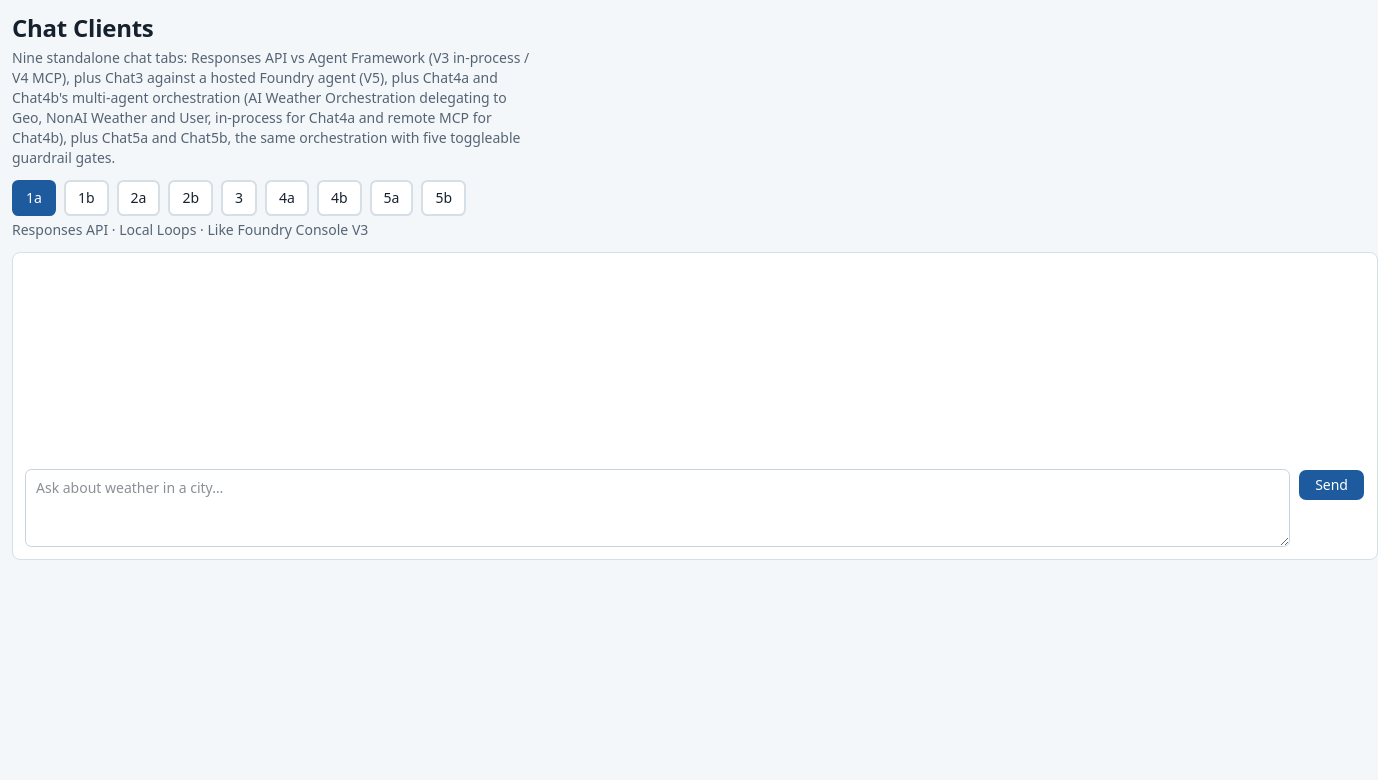
Test: assistant replies grow with their text instead of shrinking inside the transcript
Type "weather in nashville" into the text box named "message" at (658, 508), box top-left (25, 469), bottom-right (1290, 547)
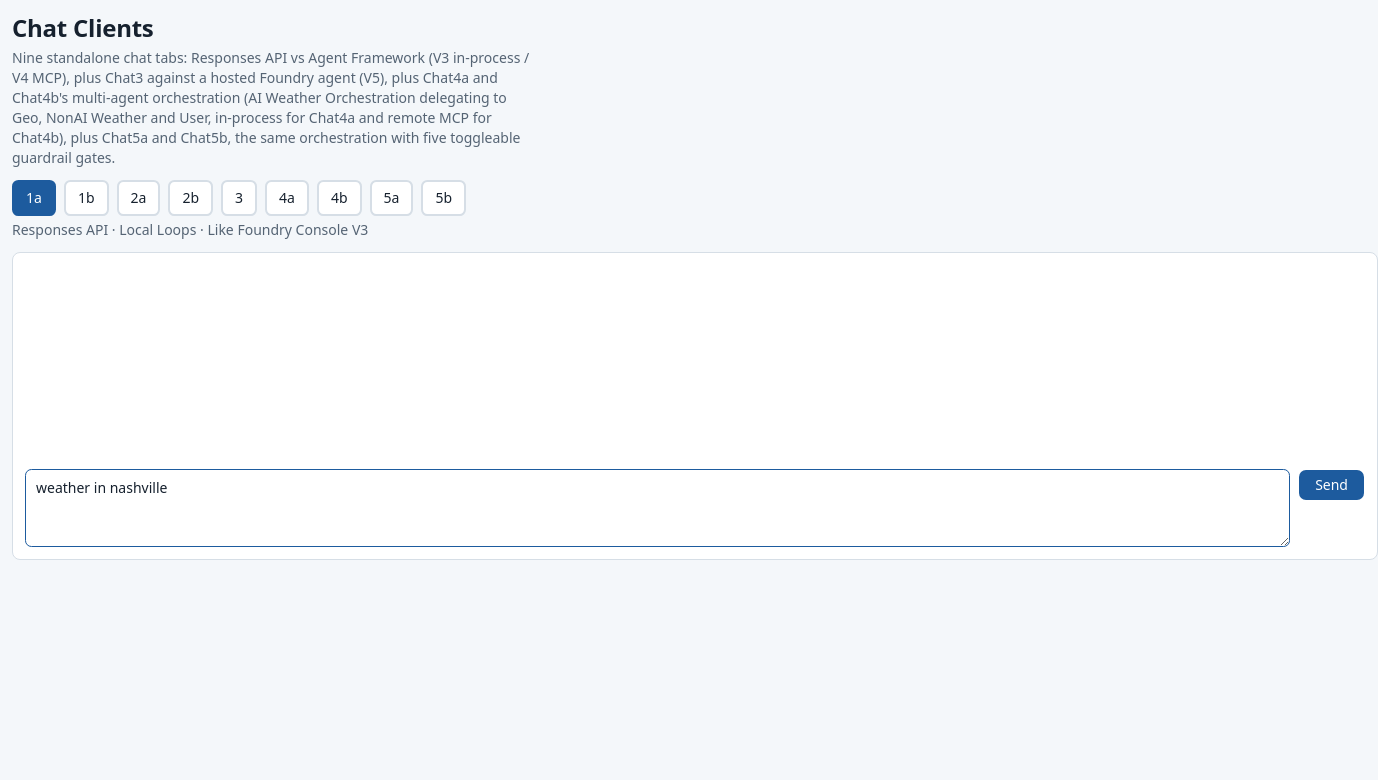
Click the button "Send" at (1332, 485), box top-left (1298, 469), bottom-right (1365, 501)
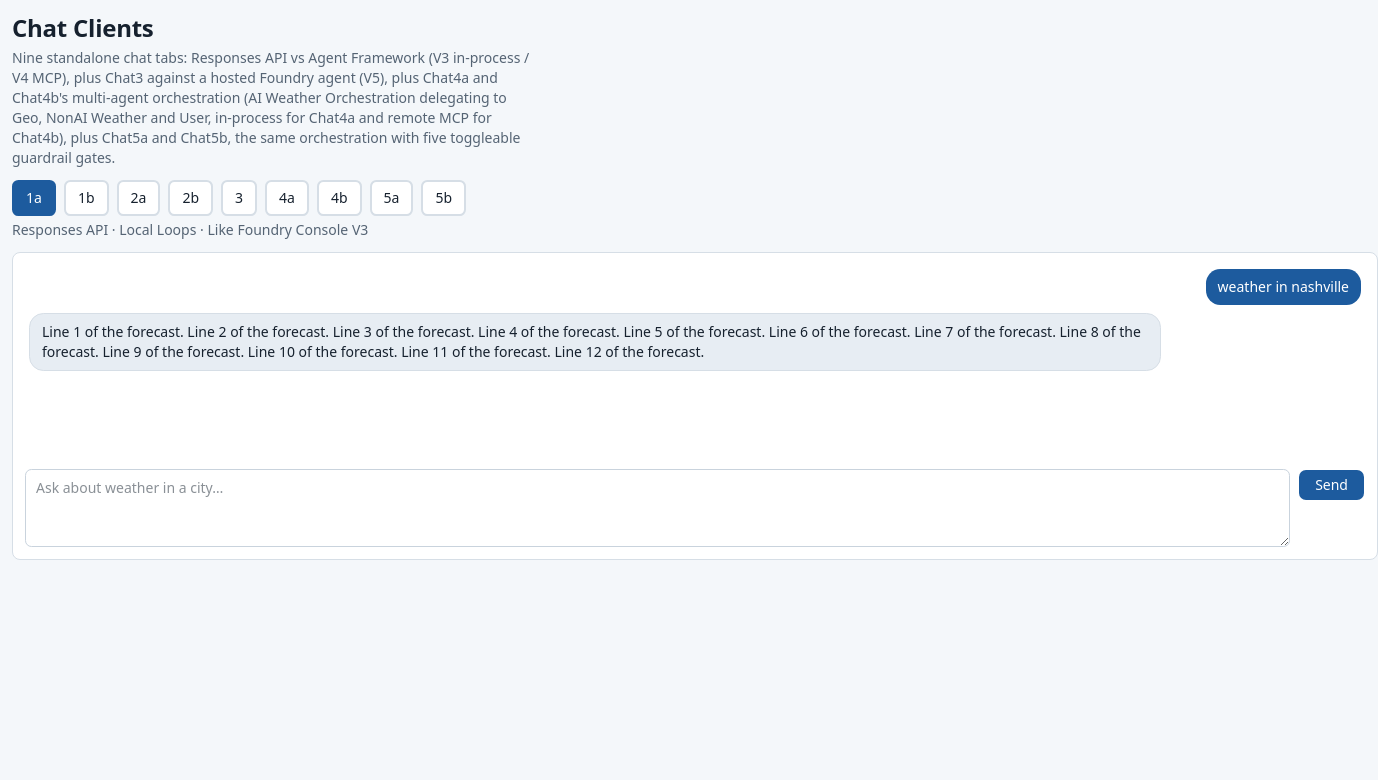
Check: the text "Line 1 of the forecast." is shown, box top-left (42, 322), bottom-right (1141, 361)
